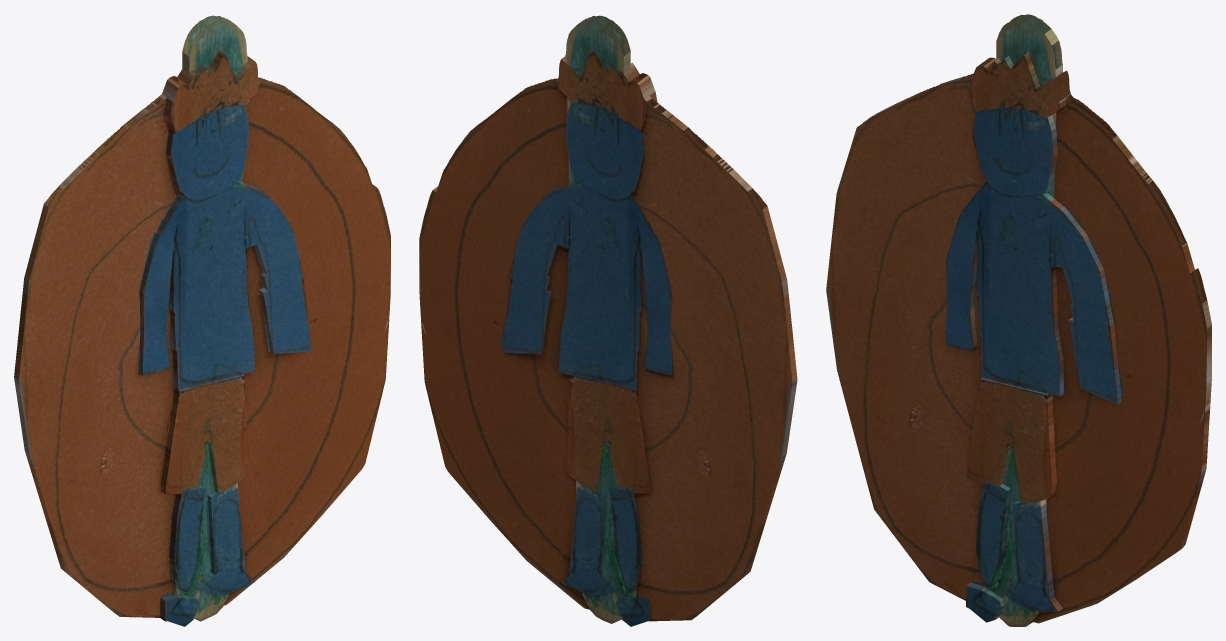
File: personaje12.fbx
3 renders of one model, left to right at view 1: azimuth 30°, elevation 25°; view 2: azimuth 150°, elevation 25°; view 3: azimuth 330°, elevation 25°, orthographic. The views are drawn at different scales.
Visible parts, largest first — view 1: Plane; view 2: Plane; view 3: Plane.
Part boxes in pixels (x1,y1,x2,y2): Plane: (14,15,390,626); Plane: (419,15,797,626); Plane: (826,14,1211,626).
Size of the model in its own units: 221 by 339 by 11.4.
1 material, 1 textured.
